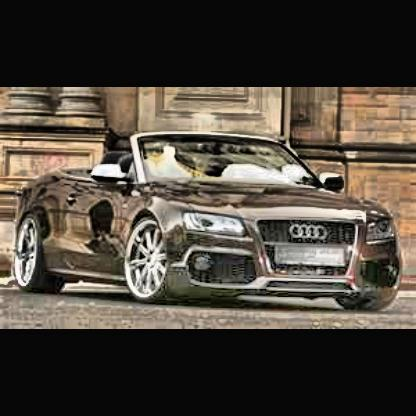Audi S5 Convertible 2012: (15, 130, 407, 304)
